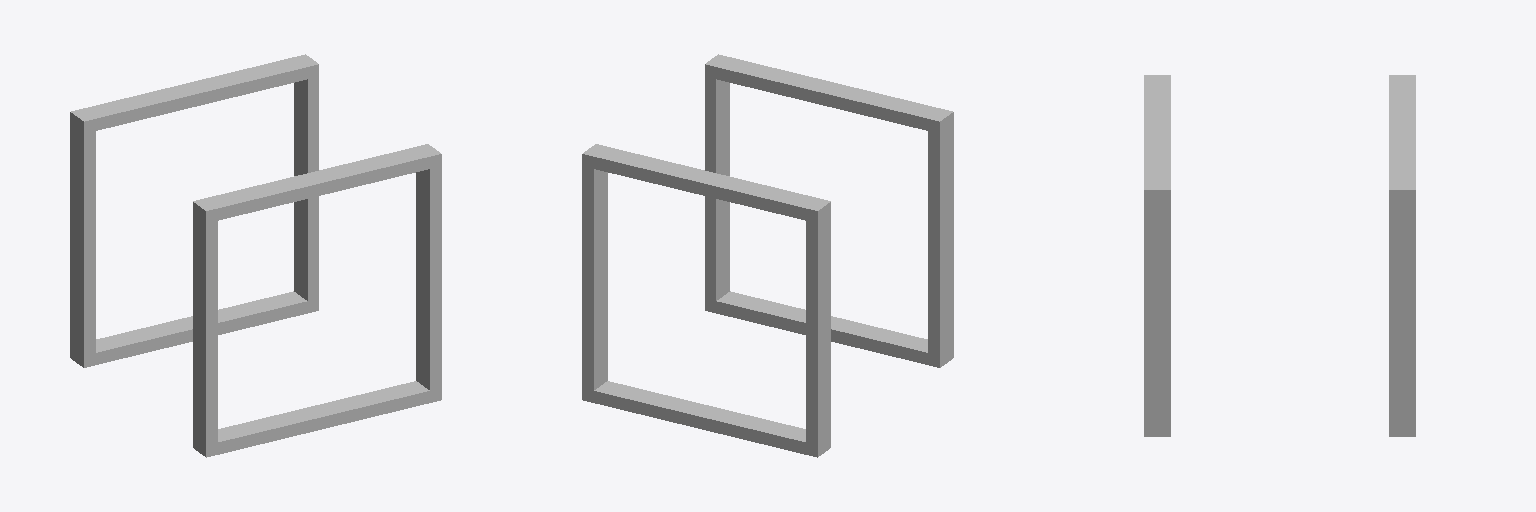
File: windowtwowayz.obj
3 renders of one model, left to right at view 1: azimuth 30°, elevation 25°; view 2: azimuth 150°, elevation 25°; view 3: azimuth 270°, elevation 25°, orthographic.
Visible parts, largest first — view 1: bedx+.042; view 2: bedx+.042; view 3: bedx+.042.
Boxes of the visible parts, x1=… form: bedx+.042: x1=70, y1=54, x2=441, y2=457; bedx+.042: x1=582, y1=54, x2=953, y2=457; bedx+.042: x1=1144, y1=75, x2=1415, y2=436.
Bounding box in the file's own units: 1 × 1 × 1.